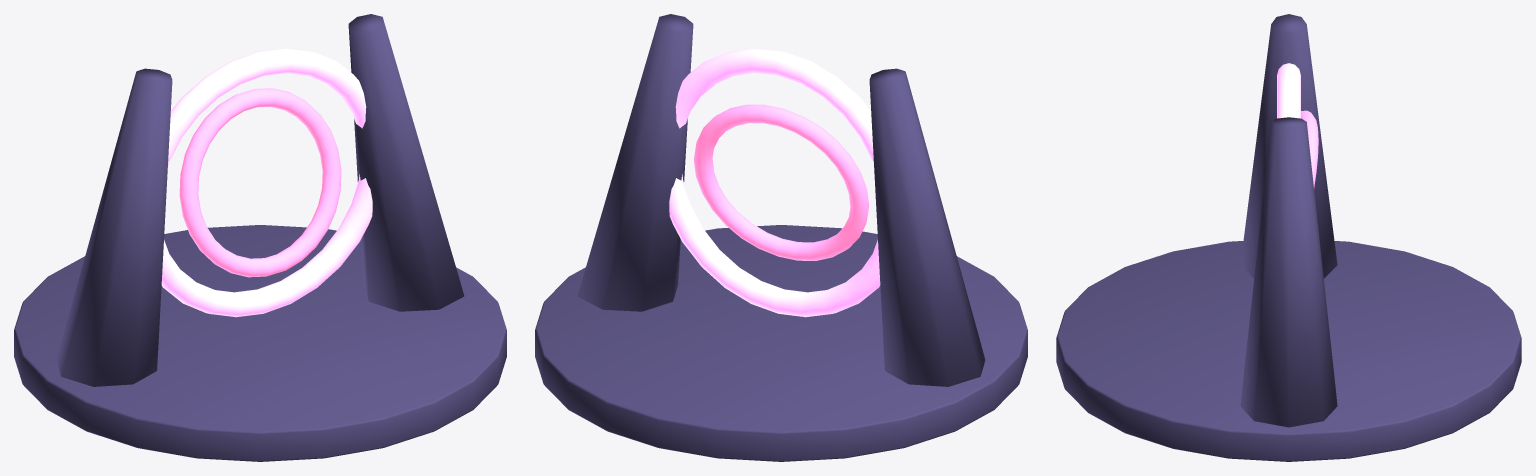
Rendered from prop_portal.glb.
3 views of the same model, side by side, from view 1: azimuth 30°, elevation 25°; view 2: azimuth 150°, elevation 25°; view 3: azimuth 270°, elevation 25° (orthographic). The views are drawn at different scales.
Visible parts, largest first — view 1: StaticBody, Anim_Rotor; view 2: StaticBody, Anim_Rotor; view 3: StaticBody, Anim_Rotor.
Part boxes in pixels (<box>): StaticBody: <box>14,14,506,461</box>; Anim_Rotor: <box>161,48,372,317</box>; StaticBody: <box>535,14,1027,461</box>; Anim_Rotor: <box>669,48,880,317</box>; StaticBody: <box>1056,14,1521,461</box>; Anim_Rotor: <box>1277,63,1318,188</box>.
Bounding box in the file's own units: 4.7 × 3.32 × 4.7.
